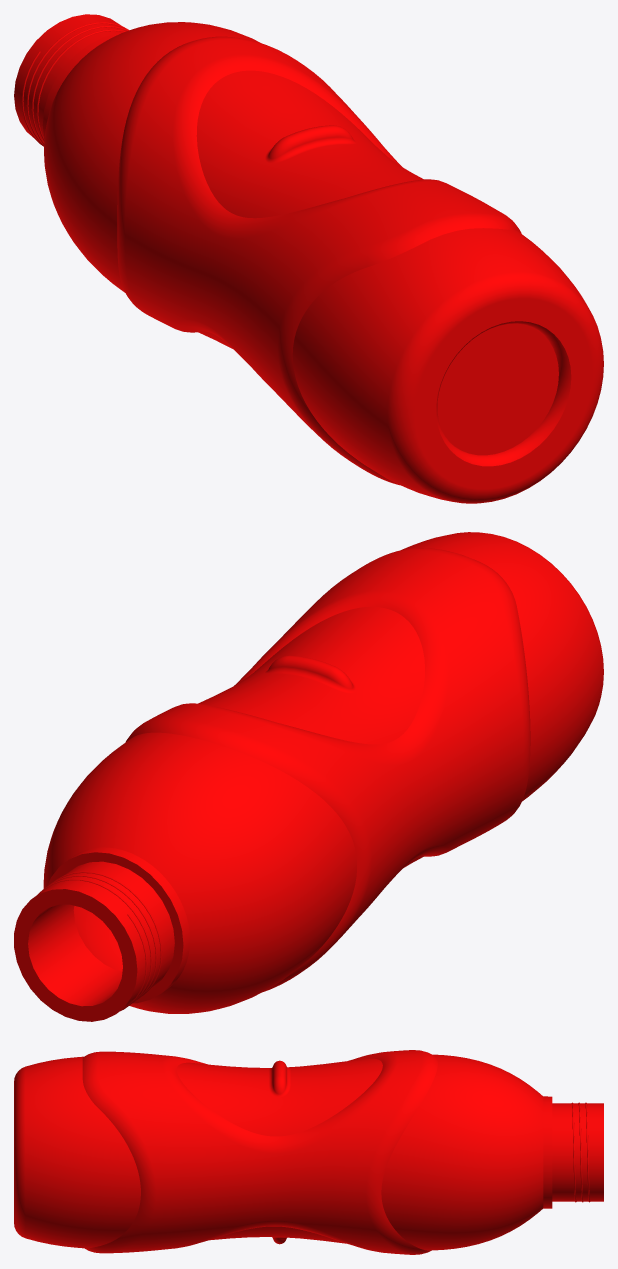
The model's file is water_bottle_buoy.dae.
3 views of the same model, one above another, from view 1: azimuth 30°, elevation 25°; view 2: azimuth 150°, elevation 25°; view 3: azimuth 270°, elevation 25° (orthographic). The views are drawn at different scales.
Visible parts, largest first — view 1: Body_1; view 2: Body_1; view 3: Body_1.
Part boxes in pixels (x1,y1,x2,y2): Body_1: (14,14,603,503); Body_1: (14,532,603,1021); Body_1: (14,1050,603,1254).
Size of the model in its own units: 0.086 by 0.2575 by 0.0897.
